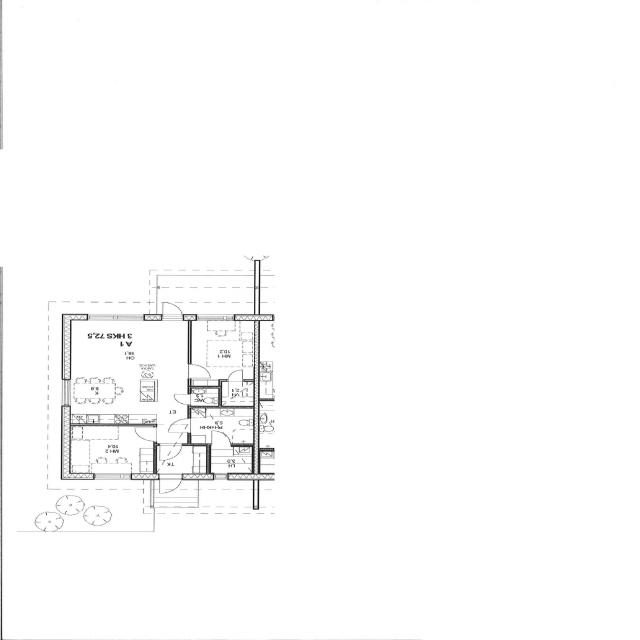door: (160, 474, 182, 495), (160, 444, 182, 462), (163, 301, 182, 321), (187, 364, 210, 378), (134, 428, 157, 441), (168, 419, 191, 432), (212, 430, 230, 446), (228, 369, 242, 382), (173, 394, 191, 404)
